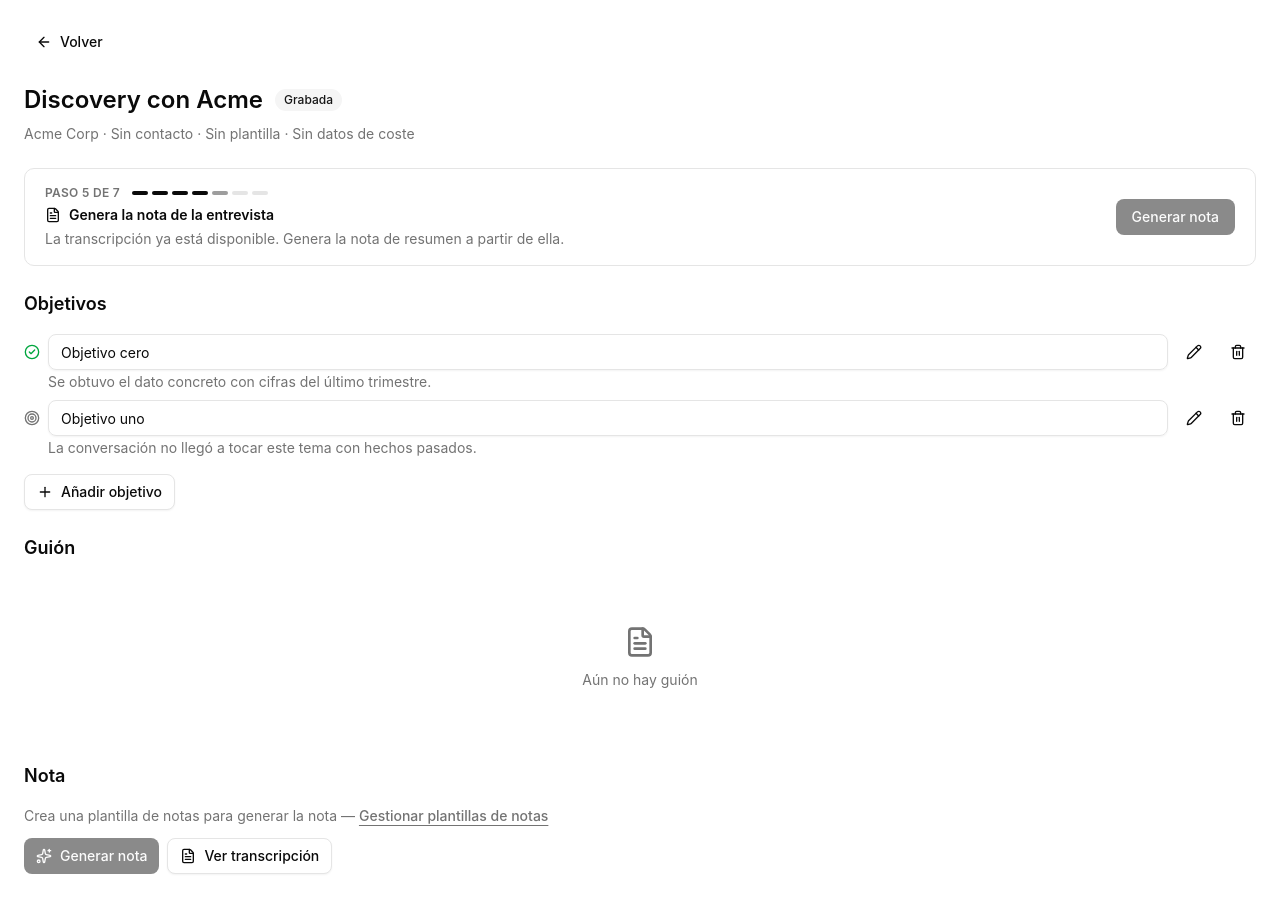
Scenario: ObjectivesSection › marking with a comment (happy path) › saves the unmet mark leaving the muted Target icon with the struck reason and the rewritten text below
Click the button with test id "objective-override-button": point(1194, 352) [1176,334,1212,370]
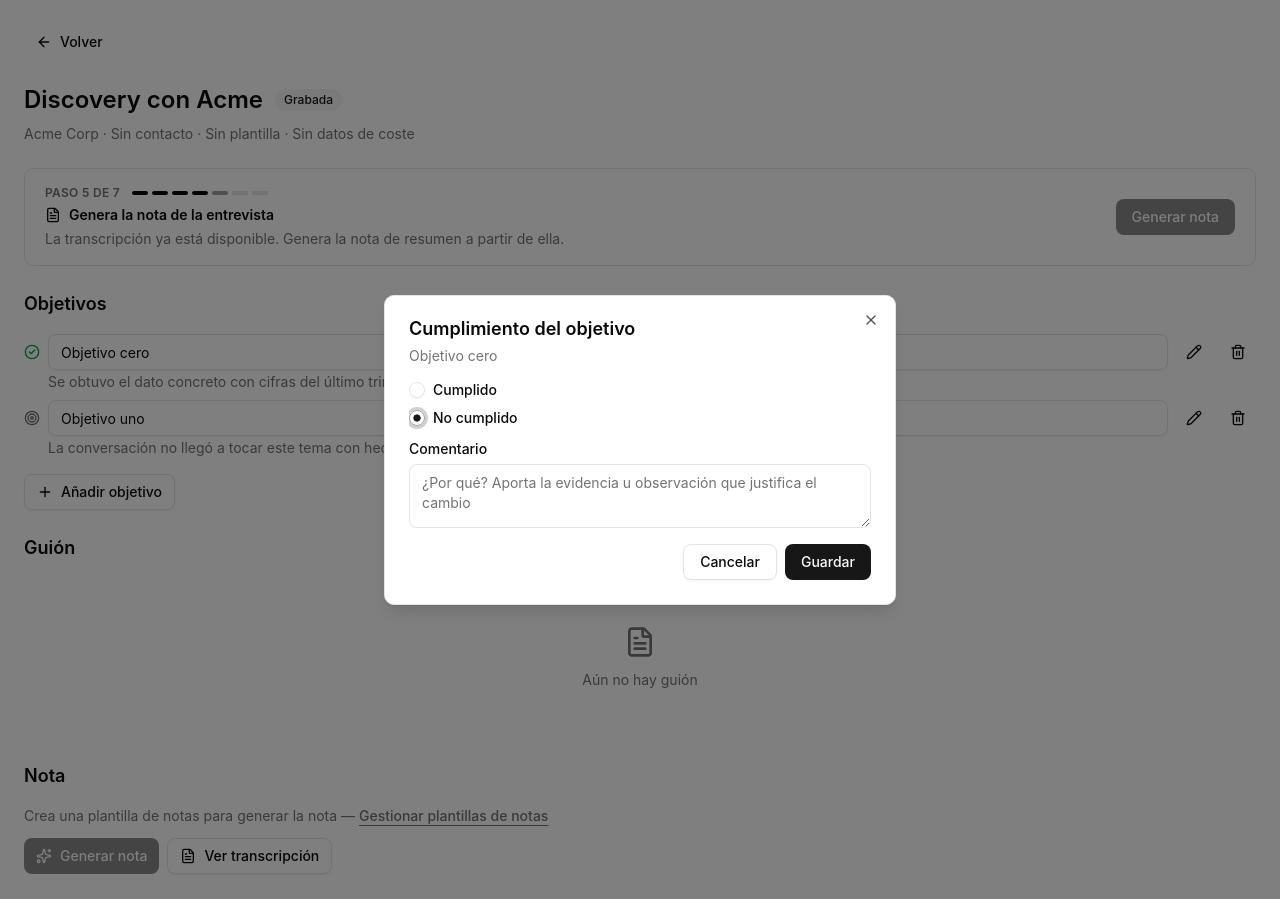
In the text box with test id "objective-override-comment": point(640, 496) [409,464,871,528], type "Solo hubo cumplidos de cortesía, sin hechos."
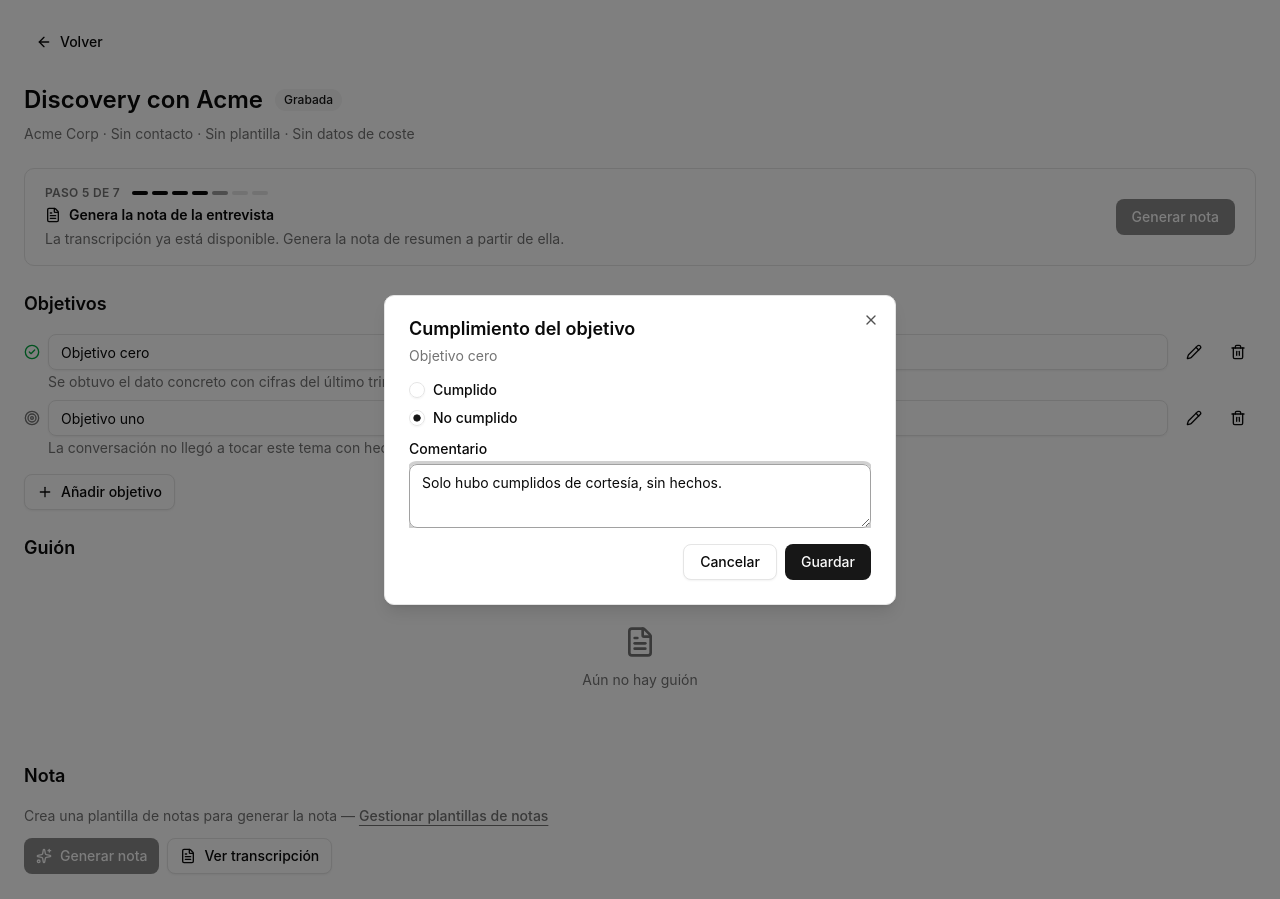
Click the button "Guardar": point(828, 562) [785,544,871,580]
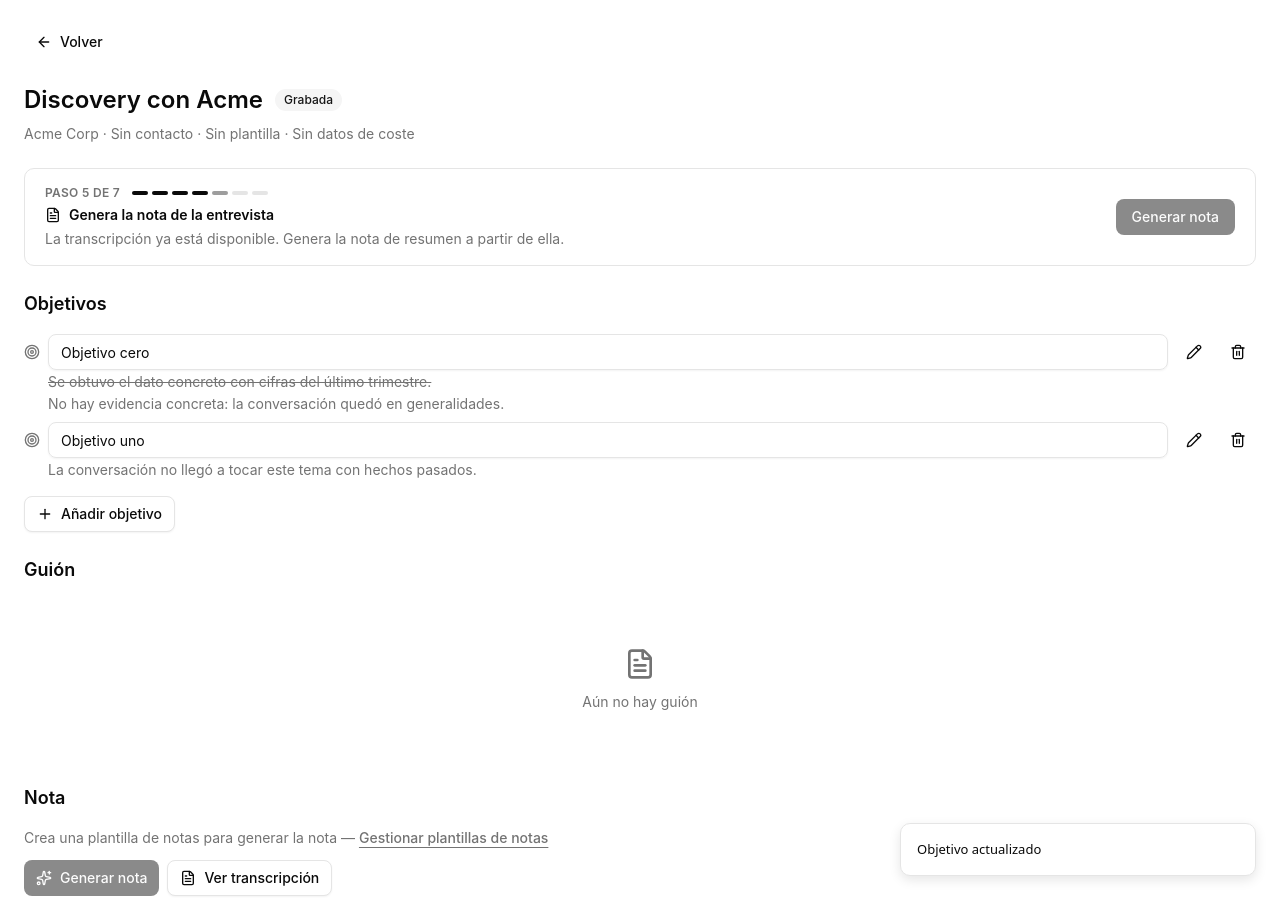
Expected: the text with test id "objective-override-text" reads "No hay evidencia concreta: la conversación quedó en generalidades.", [48,395,504,412]
